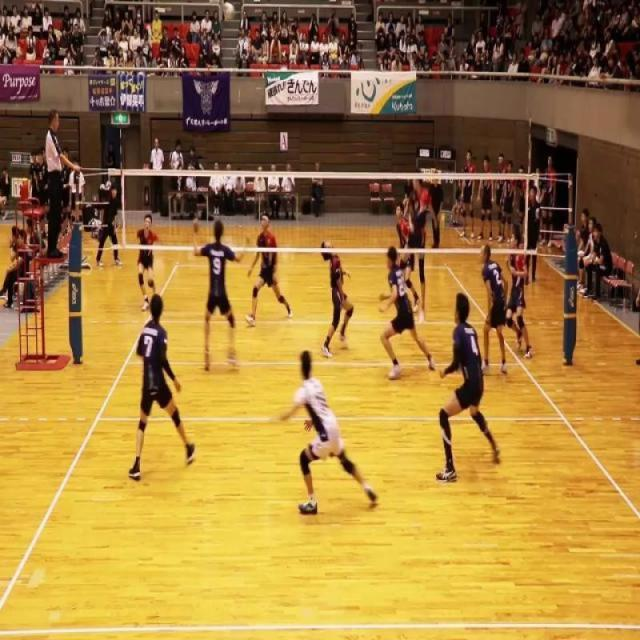volleyball: (193, 215, 199, 234)
